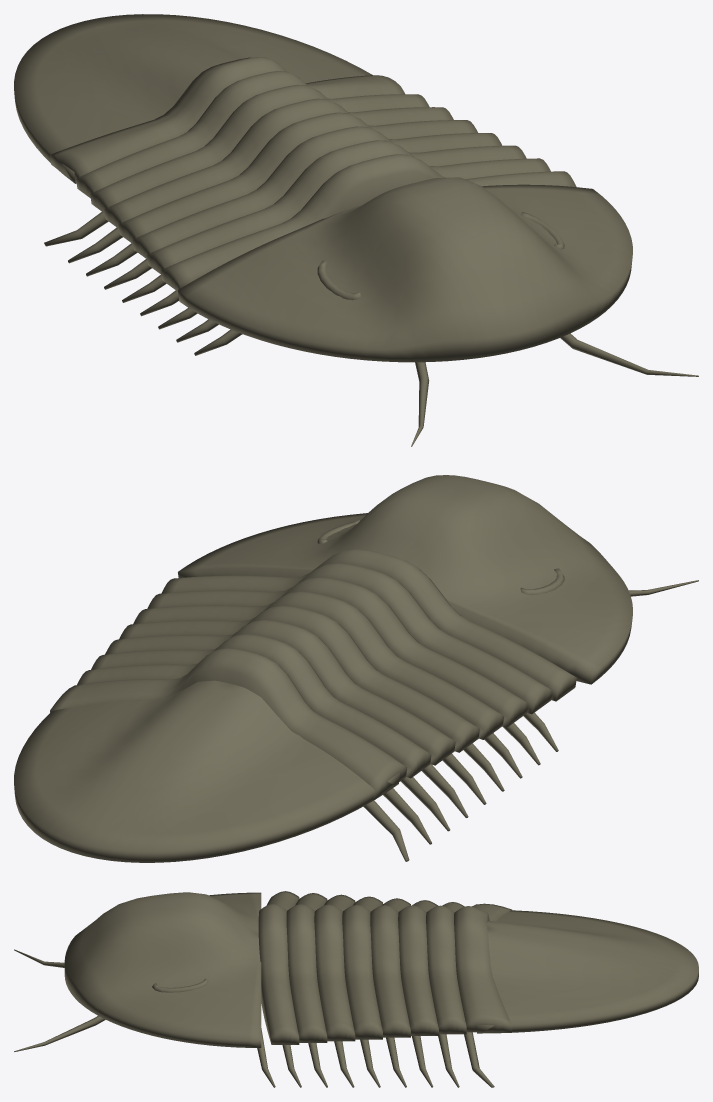
3 renders of one model, top to bottom at view 1: azimuth 30°, elevation 25°; view 2: azimuth 150°, elevation 25°; view 3: azimuth 270°, elevation 25°, orthographic. The views are drawn at different scales.
Visible parts, largest first — view 1: Broad smooth cephalon with integral forward widening glabell, Substantial semicircular pygidial shield, Thoracic articulated segment 01, Thoracic articulated segment 08, Thoracic articulated segment 02, Thoracic articulated segment 03, Thoracic articulated segment 04, Thoracic articulated segment 05, Thoracic articulated segment 06, Thoracic articulated segment 07, Inferred slender antenna.001; view 2: Substantial semicircular pygidial shield, Broad smooth cephalon with integral forward widening glabell, Thoracic articulated segment 08, Thoracic articulated segment 01, Thoracic articulated segment 02, Thoracic articulated segment 03, Thoracic articulated segment 04, Thoracic articulated segment 05, Thoracic articulated segment 06, Thoracic articulated segment 07, Inferred ventral walking limb.008, Inferred ventral walking limb.007 (+2 smaller); view 3: Broad smooth cephalon with integral forward widening glabell, Substantial semicircular pygidial shield, Thoracic articulated segment 08, Thoracic articulated segment 01, Thoracic articulated segment 02, Thoracic articulated segment 03, Thoracic articulated segment 04, Thoracic articulated segment 05, Thoracic articulated segment 06, Thoracic articulated segment 07, Inferred slender antenna.001, Inferred ventral walking limb.017 (+5 smaller).
Boxes of the visible parts, x1=… form: Broad smooth cephalon with integral forward widening glabell: x1=178, y1=177, x2=632, y2=362; Substantial semicircular pygidial shield: x1=14, y1=14, x2=372, y2=183; Thoracic articulated segment 01: x1=160, y1=154, x2=576, y2=291; Thoracic articulated segment 08: x1=50, y1=57, x2=404, y2=182; Thoracic articulated segment 02: x1=146, y1=140, x2=550, y2=274; Thoracic articulated segment 03: x1=132, y1=126, x2=526, y2=258; Thoracic articulated segment 04: x1=118, y1=112, x2=502, y2=243; Thoracic articulated segment 05: x1=104, y1=98, x2=477, y2=228; Thoracic articulated segment 06: x1=90, y1=84, x2=453, y2=213; Thoracic articulated segment 07: x1=76, y1=71, x2=429, y2=197; Inferred slender antenna.001: x1=560, y1=333, x2=698, y2=376; Substantial semicircular pygidial shield: x1=14, y1=680, x2=400, y2=862; Broad smooth cephalon with integral forward widening glabell: x1=178, y1=475, x2=632, y2=684; Thoracic articulated segment 08: x1=50, y1=648, x2=407, y2=799; Thoracic articulated segment 01: x1=161, y1=549, x2=576, y2=701; Thoracic articulated segment 02: x1=147, y1=563, x2=552, y2=714; Thoracic articulated segment 03: x1=133, y1=577, x2=528, y2=727; Thoracic articulated segment 04: x1=119, y1=591, x2=504, y2=739; Thoracic articulated segment 05: x1=105, y1=605, x2=479, y2=752; Thoracic articulated segment 06: x1=91, y1=619, x2=455, y2=765; Thoracic articulated segment 07: x1=77, y1=634, x2=431, y2=778; Inferred ventral walking limb.008: x1=363, y1=800, x2=409, y2=861; Inferred ventral walking limb.007: x1=383, y1=788, x2=431, y2=844; Broad smooth cephalon with integral forward widening glabell: x1=64, y1=892, x2=261, y2=1047; Substantial semicircular pygidial shield: x1=477, y1=910, x2=698, y2=1033; Thoracic articulated segment 08: x1=454, y1=903, x2=512, y2=1032; Thoracic articulated segment 01: x1=258, y1=891, x2=299, y2=1044; Thoracic articulated segment 02: x1=286, y1=893, x2=327, y2=1042; Thoracic articulated segment 03: x1=314, y1=894, x2=355, y2=1041; Thoracic articulated segment 04: x1=342, y1=896, x2=382, y2=1039; Thoracic articulated segment 05: x1=370, y1=898, x2=410, y2=1037; Thoracic articulated segment 06: x1=398, y1=900, x2=438, y2=1035; Thoracic articulated segment 07: x1=426, y1=902, x2=466, y2=1034; Inferred slender antenna.001: x1=14, y1=1016, x2=105, y2=1051; Inferred ventral walking limb.017: x1=464, y1=1032, x2=494, y2=1087.
Bounding box in the file's own units: 0.55 × 0.2113 × 1.08.
1 material, 1 textured.
